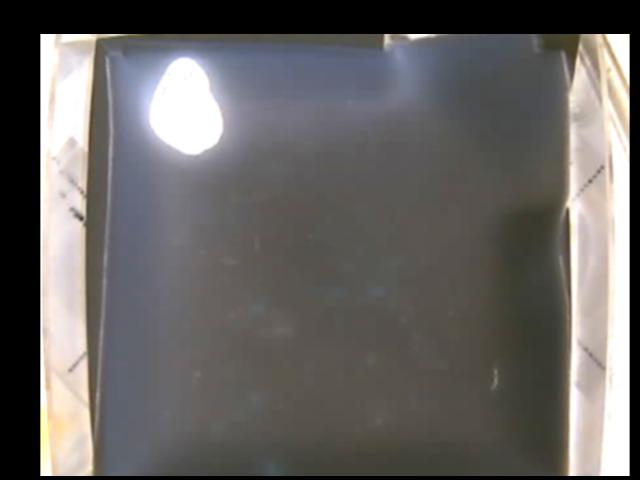Pebble: (148, 57, 222, 152)
